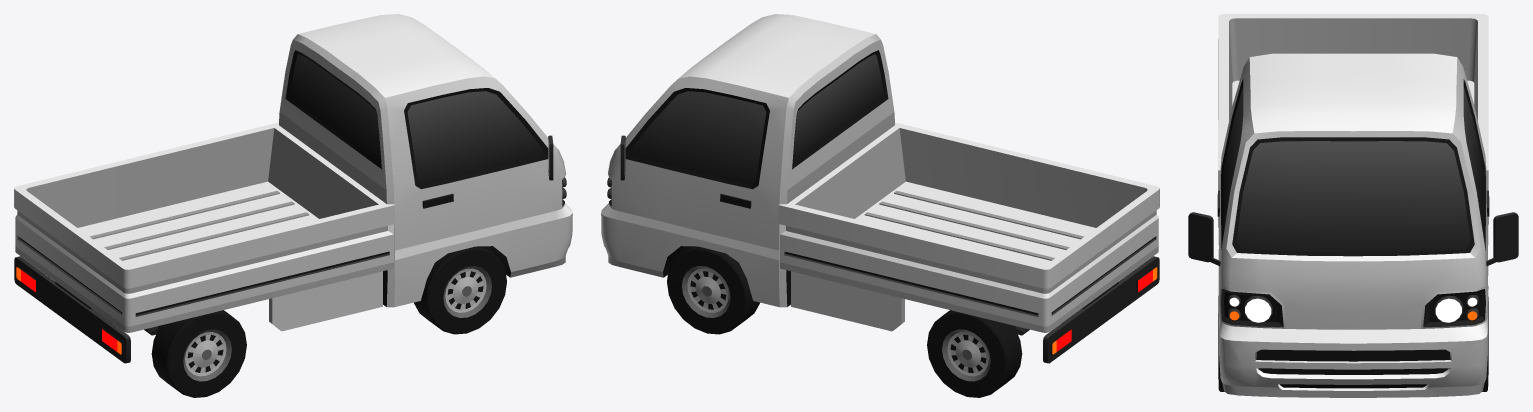
File: Car_037.glb
3 views of the same model, side by side, from view 1: azimuth 30°, elevation 25°; view 2: azimuth 150°, elevation 25°; view 3: azimuth 270°, elevation 25° (orthographic). The views are drawn at different scales.
Parts seen in each view (by area): view 1: Car_037, wheel_3_Car_037_Wheel_2R, wheel_1_Car_037_Wheel_1R; view 2: Car_037, wheel_2_Car_037_Wheel_2L, wheel_0_Car_037_Wheel_1L; view 3: Car_037.
Boxes of the visible parts, x1,y1,x2,y2 form: Car_037: (14, 14, 572, 363); wheel_3_Car_037_Wheel_2R: (151, 310, 246, 397); wheel_1_Car_037_Wheel_1R: (414, 246, 506, 334); Car_037: (601, 14, 1159, 363); wheel_2_Car_037_Wheel_2L: (927, 310, 1022, 397); wheel_0_Car_037_Wheel_1L: (667, 246, 759, 334); Car_037: (1188, 14, 1518, 397).
Bounding box in the file's own units: 3.94 × 2.03 × 2.07.
Materials: 2 (2 with a texture image).
